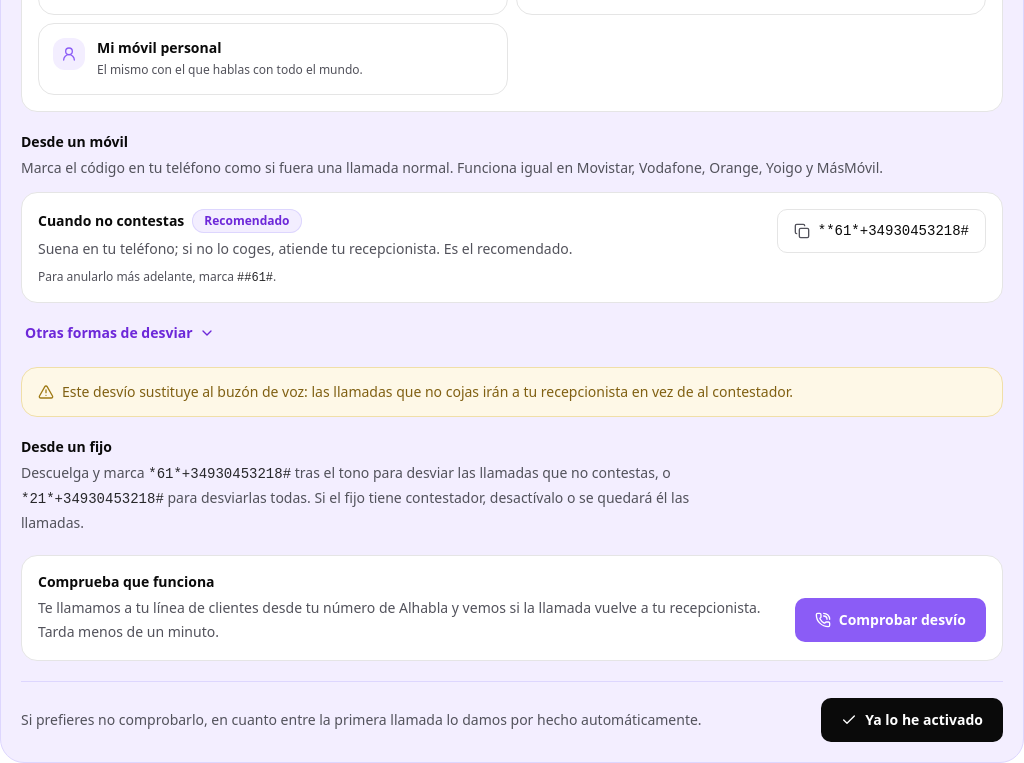
Test: CallForwardingCard · «Comprobar desvío» › si la línea no es un fijo ni un móvil español lo dice y manda a Ajustes
(page scrolled)
Click the button "Comprobar desvío".
click(890, 620)  # box [795,598,986,642]
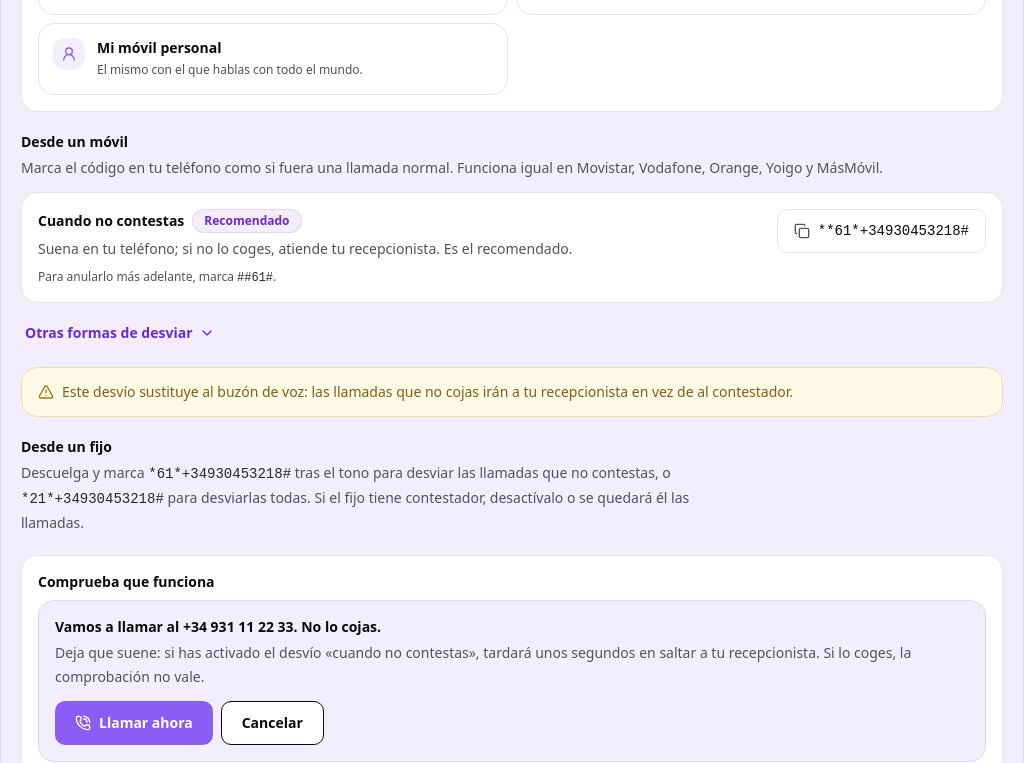
Click the button "Llamar ahora".
click(134, 723)  # box [55,701,213,745]
(page scrolled)
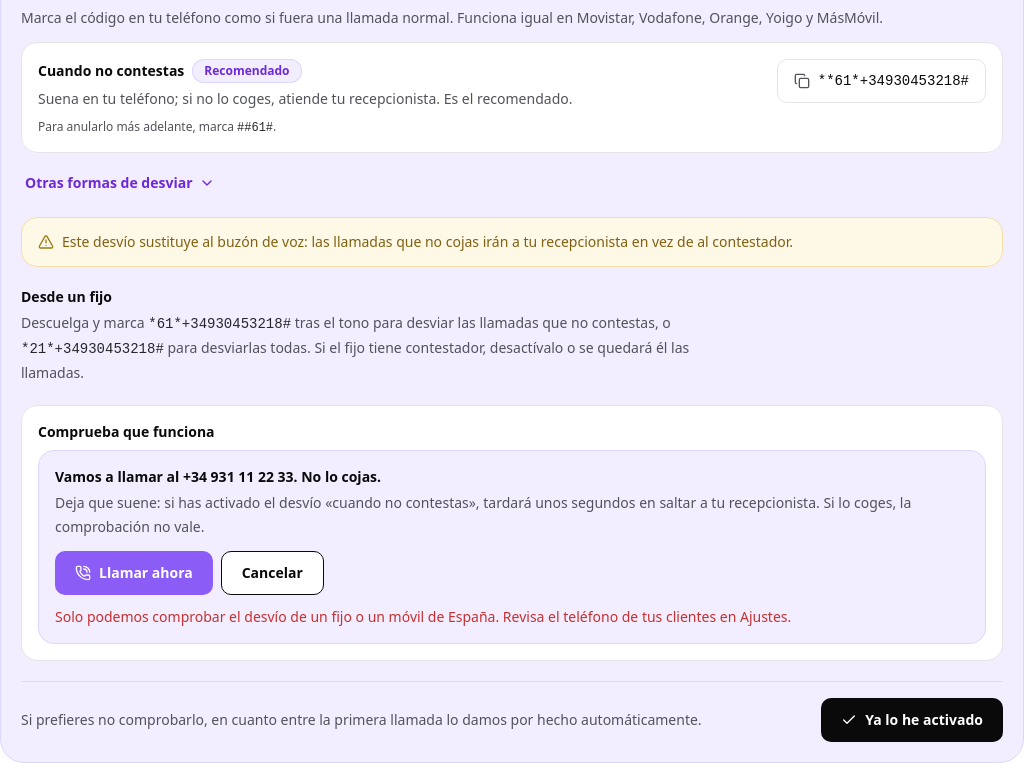
Now the message shows "fijo o un móvil de España", box [55,607,791,626]
